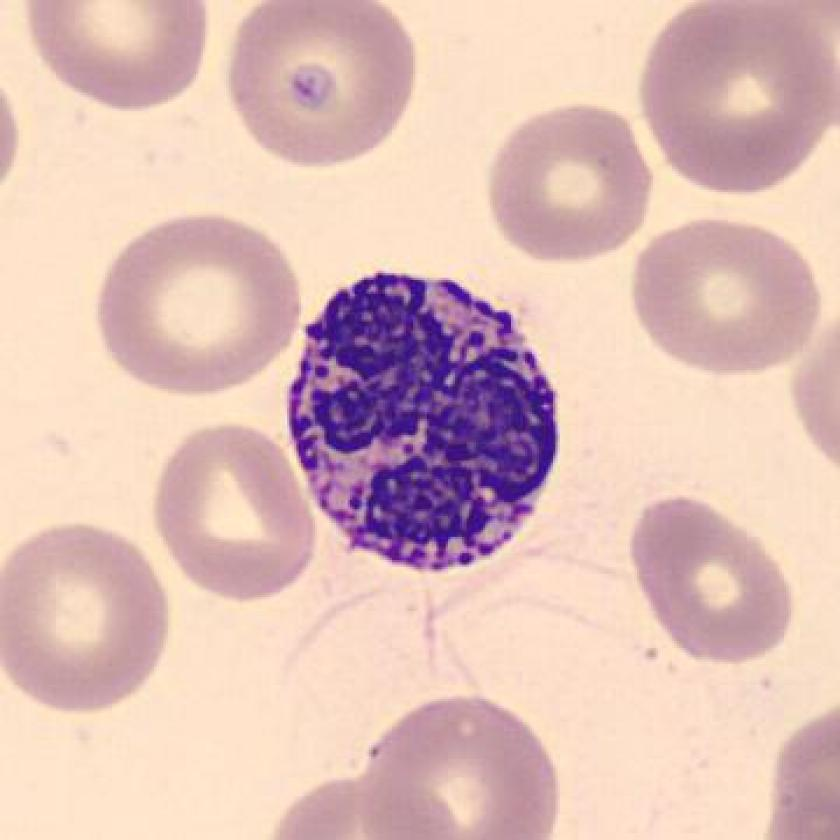basophil: (281, 272, 580, 575)
